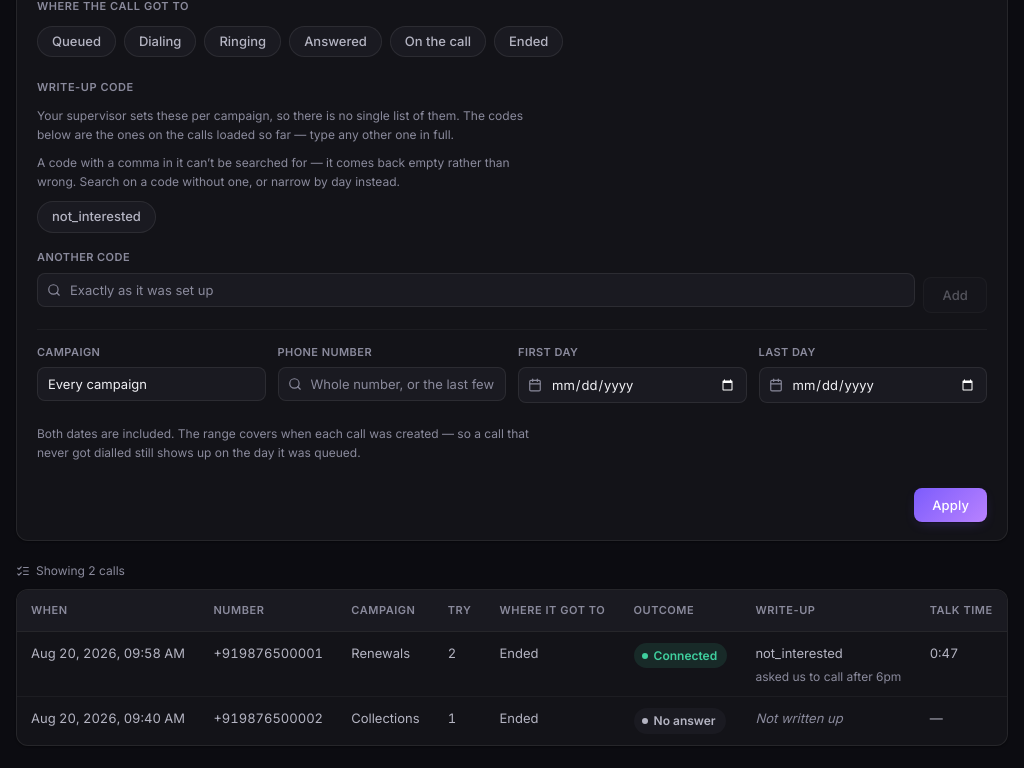
Test: AgentAttemptsPage — the filters › counts the phone search on the filter badge, and offers Clear for it alone
The width and height of the screenshot is (1024, 768).
(page scrolled)
Expected: the text "Clear" is not shown
Type "500001" into the field with test id "phone-filter" at (392, 384), box [278,367,506,401]
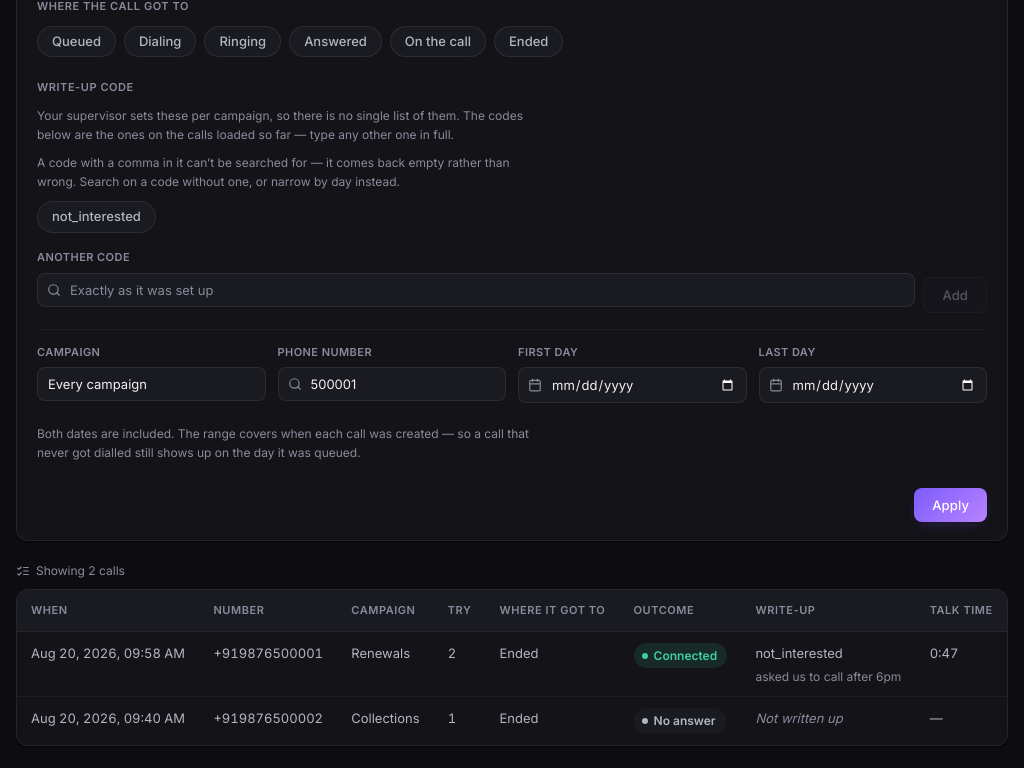
Click the button "Apply" at (951, 505), box [914,488,987,522]
(page scrolled)
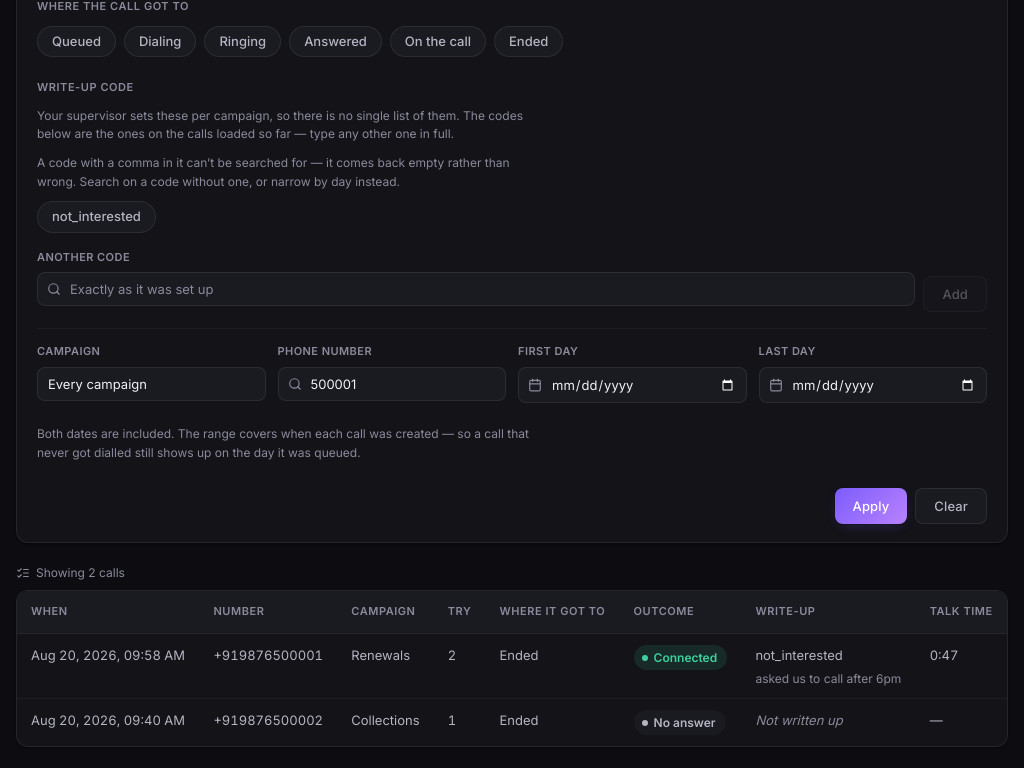
Now the button "Clear" is shown
Click the button "Clear" at (951, 506), box [915,488,987,524]
(page scrolled)
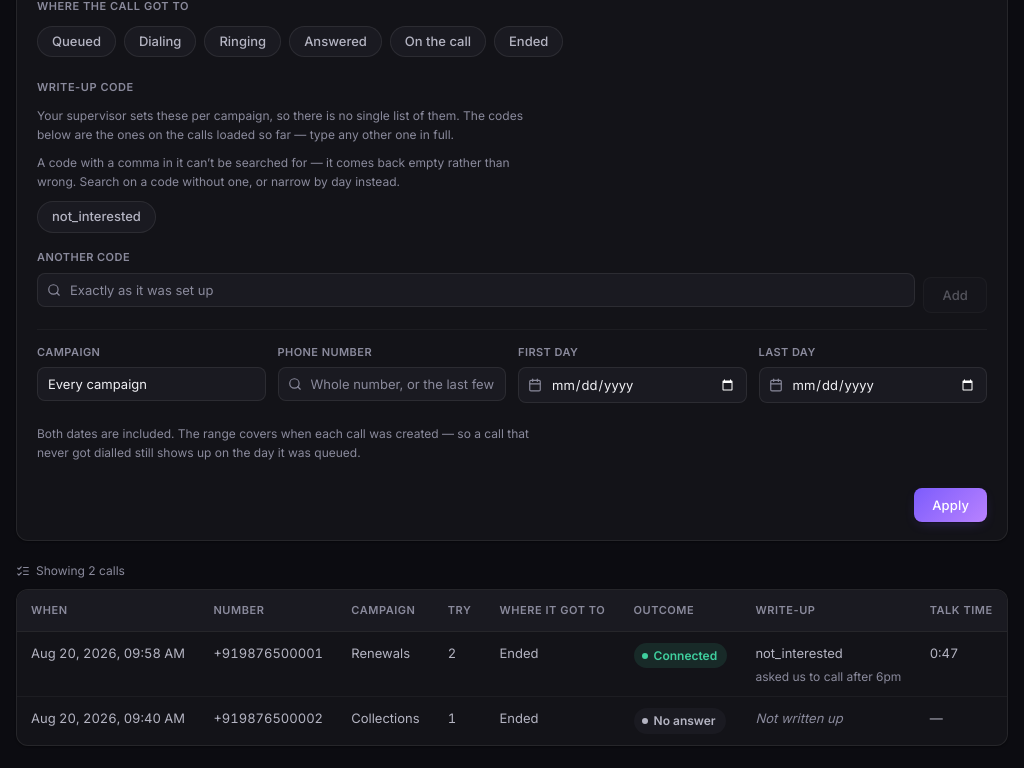
Now the field with test id "phone-filter" is empty, box [278,367,506,401]
